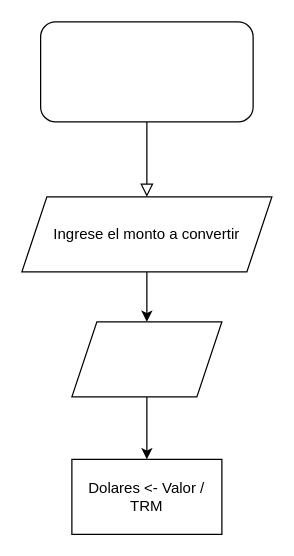
The diagram is 294 pixels wide and 556 high, and some of its shapes have lost their labels. The centre of each missing label's shape, as x and y in pixels:
"Algoritmo Conversion de moneda" goes at [146,71].
"Valor" goes at [146,359].
